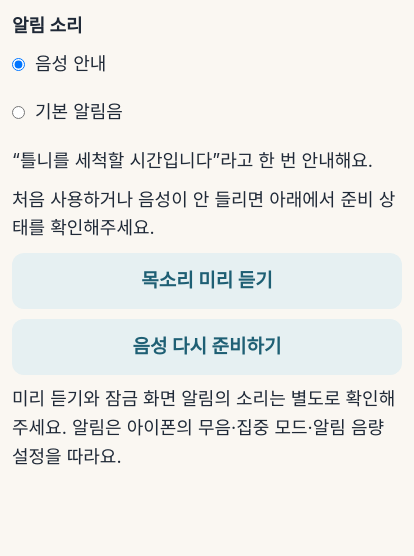
Scenario: 명시적인 재생성은 캐시를 다시 만들고 기존 알림 재적용을 안내한다
Click the button "음성 다시 준비하기". click: (207, 347)
box: [12,319,402,375]
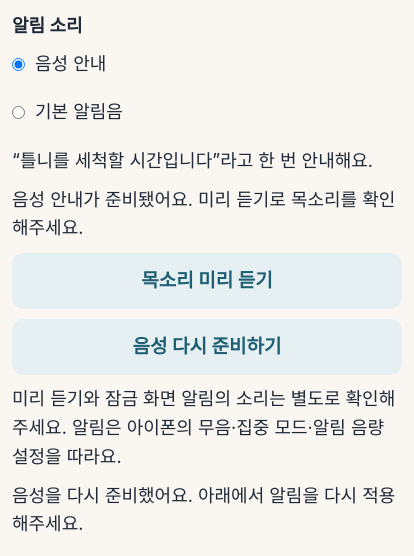
Check: the text "음성을 다시 준비했어요. 아래에서 알림을 다시 적용해주세요." is shown, box [12,482,402,539]
